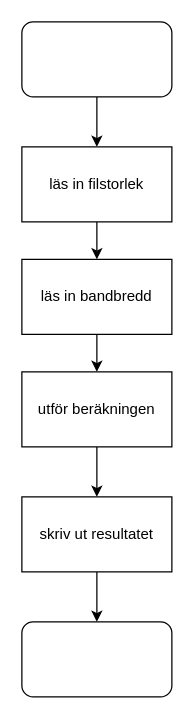
This 194x719 diagram has some shape labels left out. The shapes that lost their labels are listed below. From the top down, each one's centre as x and y in pixels, then its label:
the point at 96,59: programstart
the point at 96,659: program slut
